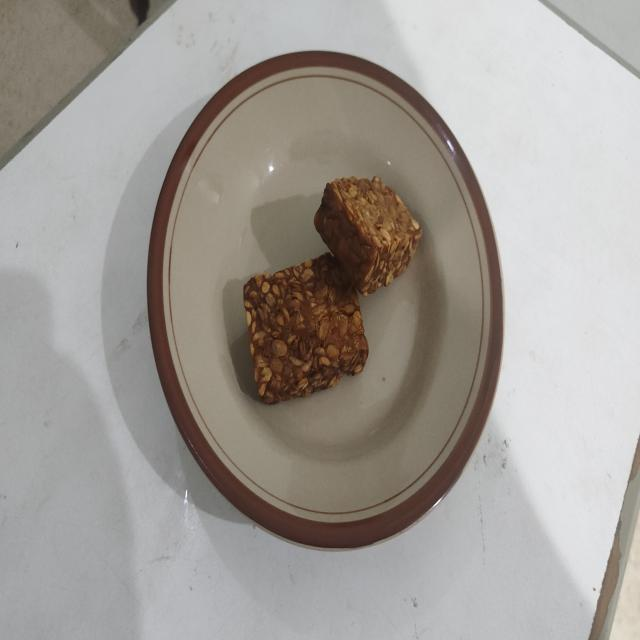tempe_goreng: (244, 253, 368, 404), (314, 176, 422, 295)
